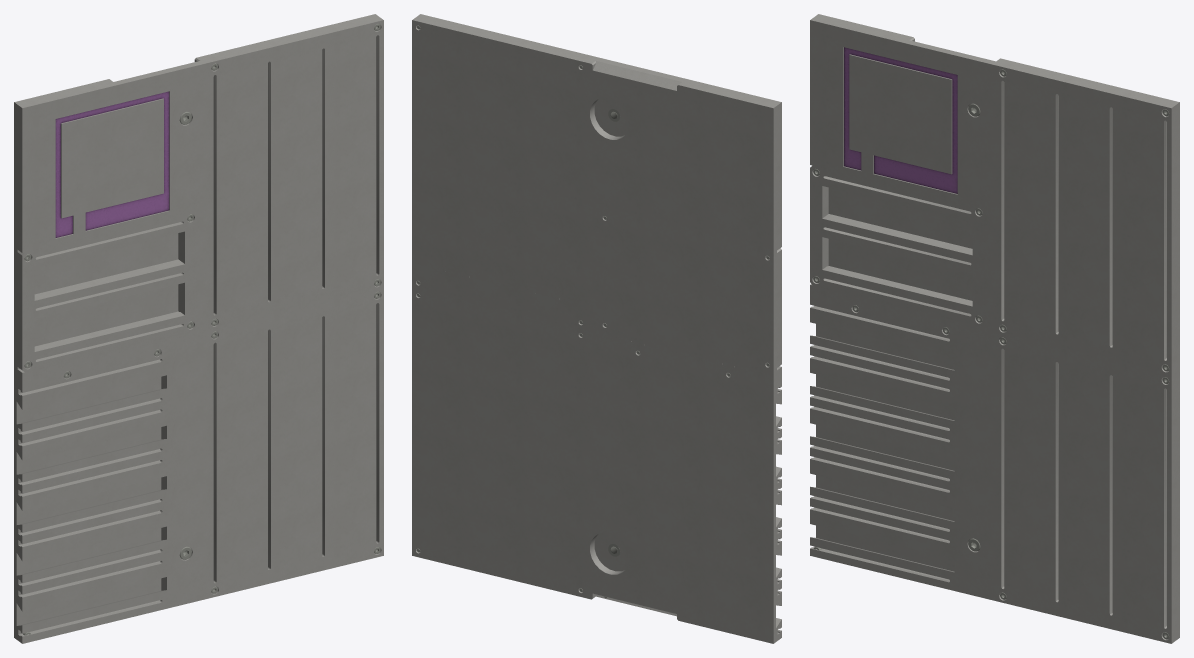
3 renders of one model, left to right at view 1: azimuth 30°, elevation 25°; view 2: azimuth 150°, elevation 25°; view 3: azimuth 330°, elevation 25°, orthographic.
Visible parts, largest first — view 1: ISO 4762 - M3 x 8.020; view 2: ISO 4762 - M3 x 8.020; view 3: ISO 4762 - M3 x 8.020.
Part boxes in pixels (<box>): ISO 4762 - M3 x 8.020: <box>14,14,383,643</box>; ISO 4762 - M3 x 8.020: <box>412,14,781,643</box>; ISO 4762 - M3 x 8.020: <box>810,14,1179,643</box>.
Size of the model in its own units: 0.3 by 0.425 by 0.012.
Materials: 3 (2 with a texture image).
